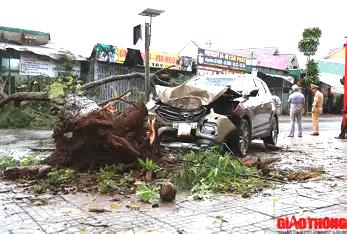ROAD_OBSTACLE: (5, 65, 260, 205)
